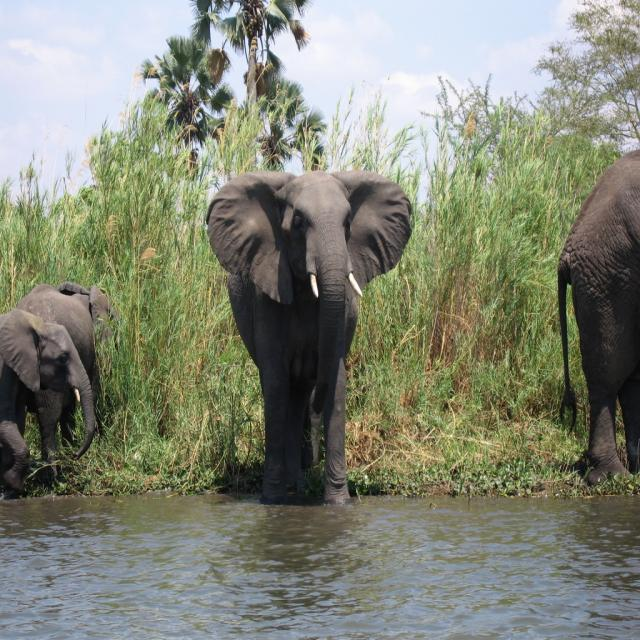elephant: (193, 164, 425, 508), (559, 147, 639, 488), (9, 286, 118, 469), (0, 310, 101, 488)
